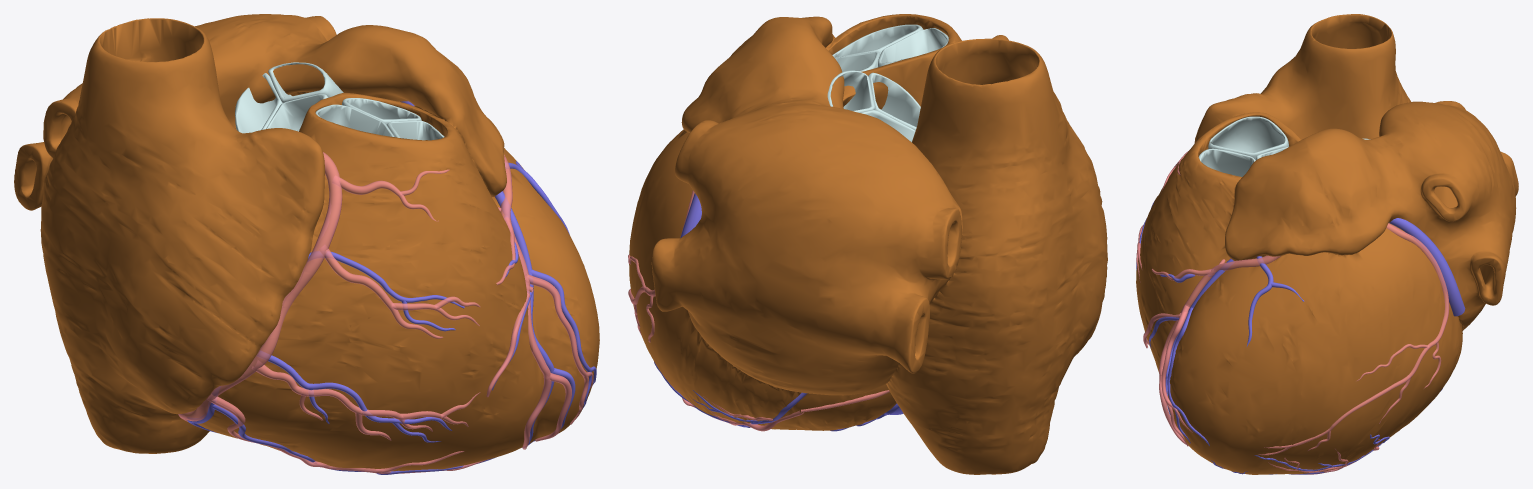
Rendered from heart.glb.
3 renders of one model, left to right at view 1: azimuth 30°, elevation 25°; view 2: azimuth 150°, elevation 25°; view 3: azimuth 270°, elevation 25°, orthographic. The views are drawn at different scales.
Parts seen in each view (by area): view 1: Object_152, Vessel_RCA, Object_3, Vessel_LAD, Object_177, Object_174; view 2: Object_152, Object_3, Vessel_LCX, Object_179, Object_123; view 3: Object_152, Object_174, Object_3, Vessel_LAD, Vessel_LCX, Object_179.
Part boxes in pixels (x1,y1,x2,y2): Object_152: [14, 14, 599, 471]; Vessel_RCA: [178, 152, 486, 473]; Object_3: [235, 62, 444, 140]; Vessel_LAD: [486, 154, 593, 449]; Object_177: [187, 251, 495, 474]; Object_174: [400, 101, 596, 444]; Object_152: [629, 14, 1107, 474]; Object_3: [827, 24, 948, 142]; Vessel_LCX: [628, 190, 694, 342]; Object_179: [654, 361, 807, 427]; Object_123: [664, 377, 803, 431]; Object_152: [1136, 14, 1518, 474]; Object_174: [1149, 218, 1465, 445]; Object_3: [1198, 116, 1370, 176]; Vessel_LAD: [1143, 255, 1280, 446]; Vessel_LCX: [1258, 223, 1449, 455]; Object_179: [1254, 388, 1442, 474].
Size of the model in its own units: 0.1193 by 0.1088 by 0.1131.
